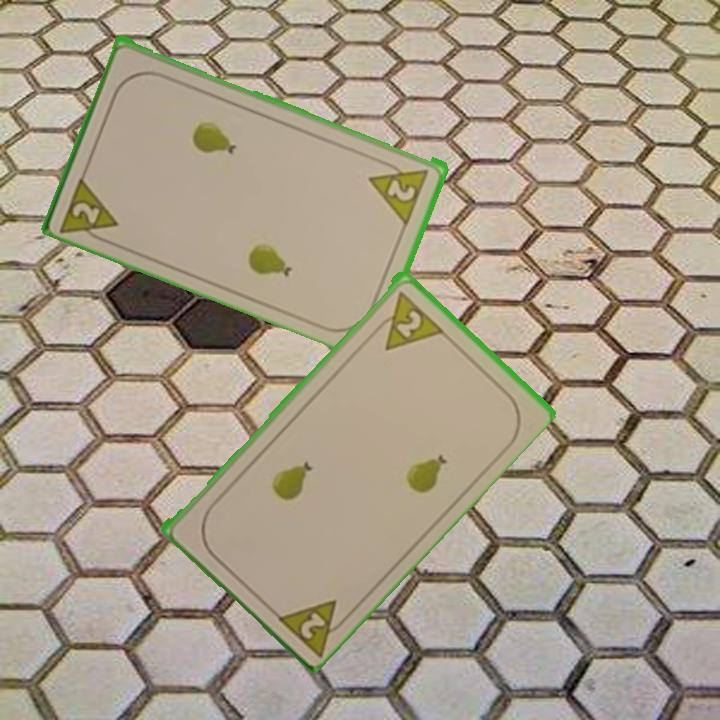2p: (271, 594, 355, 658), (369, 286, 445, 353), (365, 156, 432, 226), (69, 198, 104, 227)
